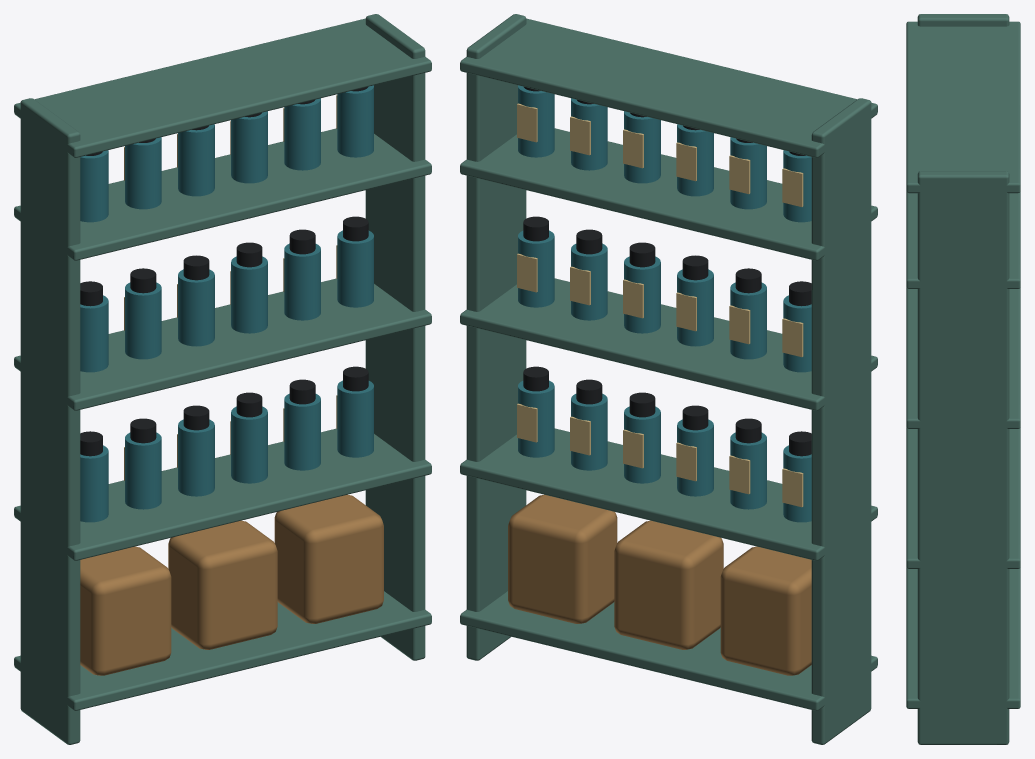
File: MedicineShelf.obj
3 renders of one model, left to right at view 1: azimuth 30°, elevation 25°; view 2: azimuth 150°, elevation 25°; view 3: azimuth 270°, elevation 25°, orthographic. The views are drawn at different scales.
Parts seen in each view (by area): view 1: MedicineShelf; view 2: MedicineShelf; view 3: MedicineShelf.
Boxes of the visible parts, bbox=[...] form: MedicineShelf: bbox=[14, 14, 431, 744]; MedicineShelf: bbox=[460, 14, 877, 744]; MedicineShelf: bbox=[906, 14, 1020, 744].
Bounding box in the file's own units: 1.35 × 2.2 × 0.4.
